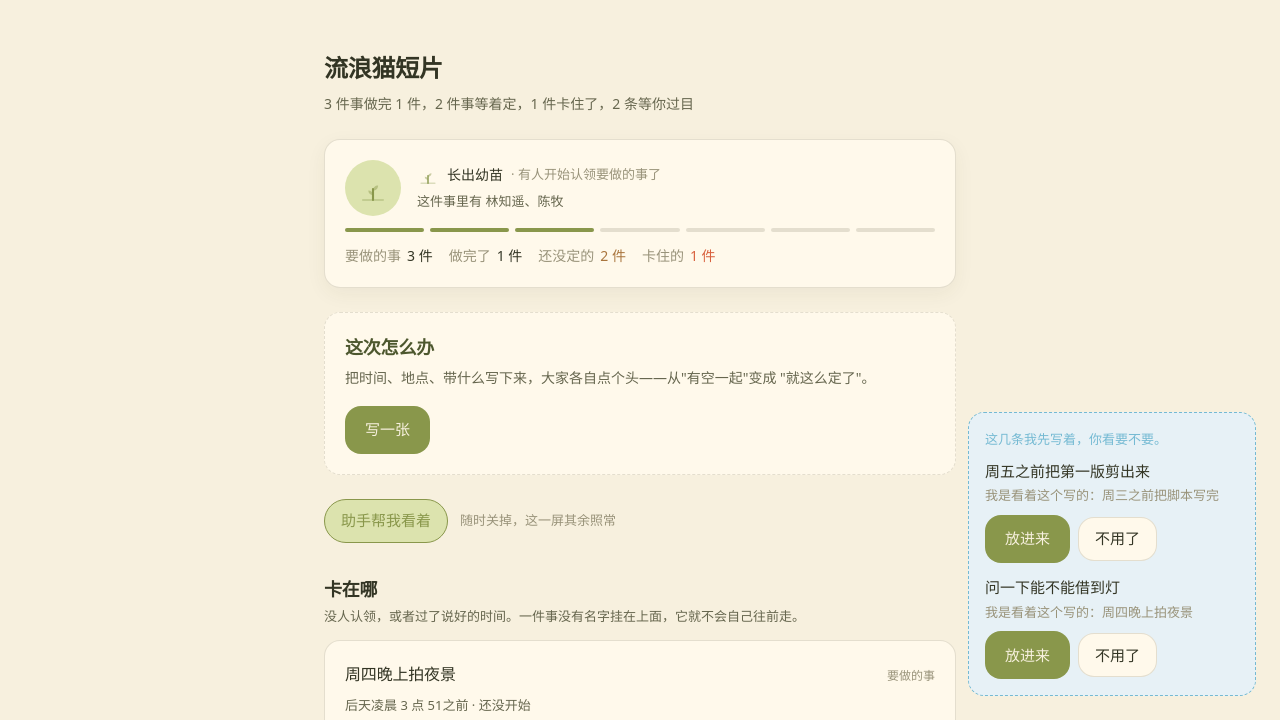
Test: 助手在角落 › 每条建议都能一键说「不用了」，说完不再回来
Expected: the text "周五之前把第一版剪出来" is shown, [985,461,1150,481]
Expected: the text "我是看着这个写的：周三之前把脚本写完" is shown, [985,485,1239,507]
Click the button "不用了" below "周五之前把第一版剪出来". click: (1118, 539)
box: [1078,517,1157,561]
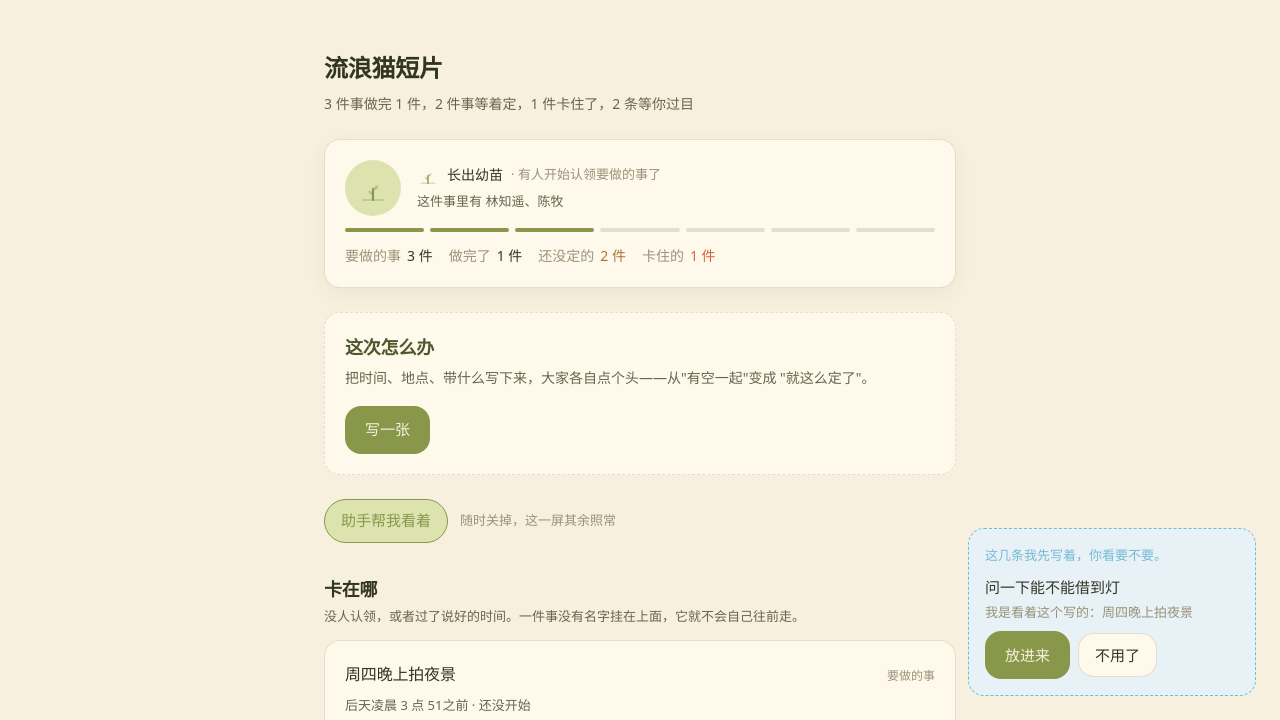
Expected: the text "问一下能不能借到灯" is shown, [985,577,1120,597]
Now the text "周五之前把第一版剪出来" is gone
